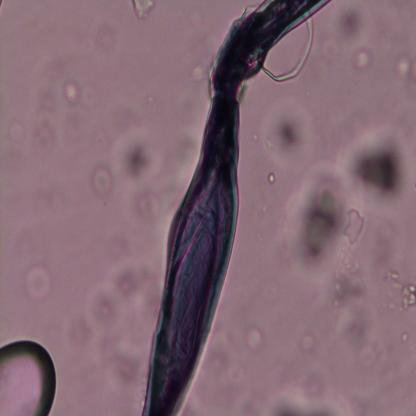Air bubble: (0, 337, 58, 416)
Background material: (280, 125, 412, 275), (90, 258, 165, 380), (136, 130, 198, 223), (204, 325, 261, 414), (330, 256, 371, 344), (266, 100, 312, 166), (115, 126, 161, 190), (27, 92, 57, 157), (272, 392, 345, 416), (59, 74, 99, 112), (386, 268, 416, 315), (22, 260, 52, 302), (87, 162, 116, 200), (338, 10, 369, 40), (354, 342, 383, 374), (238, 322, 264, 354), (349, 44, 373, 73), (396, 53, 416, 81), (132, 0, 156, 21), (188, 60, 204, 90), (266, 171, 277, 185)
Cotton: (142, 0, 334, 414)
